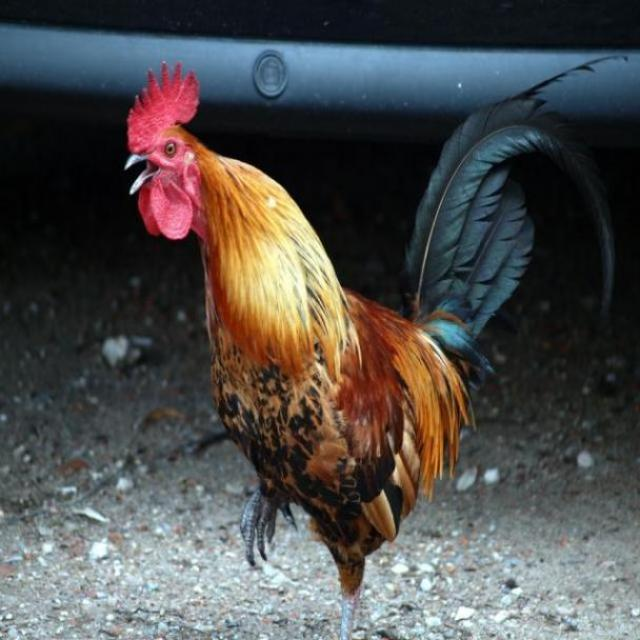Chicken: (127, 64, 619, 621)
